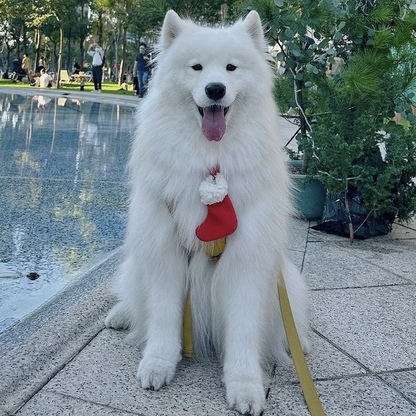samoyed: (98, 4, 317, 416)
